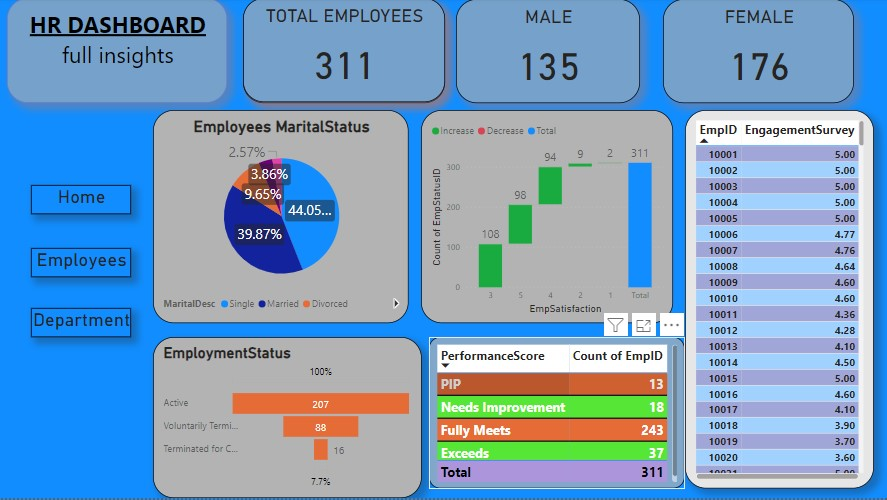

Layout of this report page (visuals, bound fields, positions):
{"tool":"powerbi","page":{"name":"Employees","canvas":[1280,720],"ordinal":1},"visuals":[{"type":"textbox","box":[10.1,0,317.5,151.2],"z":0},{"type":"card","title":"TOTAL EMPLOYEES","fields":{"Values":["CountNonNull(Sheet1.EmpID)"]},"box":[349.4,1.7,290.6,149.5],"z":1000},{"type":"card","title":"MALE","fields":{"Values":["Sum(Sheet1.male)"]},"box":[656.8,1.7,265.4,149.5],"z":2000},{"type":"card","title":"FEMALE","fields":{"Values":["Sum(Sheet1.female)"]},"box":[954.1,1.7,275.5,149.5],"z":3000},{"type":"card","title":"TOTAL EMPLOYEES","fields":{"Values":["CountNonNull(Sheet1.EmpID)"]},"box":[349.4,0,290.6,149.5],"z":4000},{"type":"actionButton","title":"Home","box":[45.4,268.8,144.5,42],"z":5000},{"type":"actionButton","title":"Employees","box":[45.4,359.5,144.5,42],"z":6000},{"type":"actionButton","title":"Departments","box":[45.4,446.8,144.5,42],"z":7000},{"type":"pieChart","title":"Employees MaritalStatus","fields":{"Category":["Sheet1.MaritalDesc"],"Y":["CountNonNull(Sheet1.MaritalStatusID)"]},"box":[220,161.7,368.3,306.7],"z":8000},{"type":"waterfallChart","title":"Employees MaritalStatus","fields":{"Category":["Sheet1.EmpSatisfaction"],"Y":["CountNonNull(Sheet1.EmpStatusID)"]},"box":[606.7,161.7,363.3,306.7],"z":9000},{"type":"funnel","title":"EmploymentStatus","fields":{"Category":["Sheet1.EmploymentStatus"],"Y":["CountNonNull(Sheet1.EmpID)"]},"box":[220,488.3,386.7,231.7],"z":10000},{"type":"tableEx","fields":{"Values":["Sheet1.PerformanceScore","CountNonNull(Sheet1.EmpID)"]},"box":[618.3,488.3,368.3,218.3],"z":11000},{"type":"tableEx","fields":{"Values":["Sheet1.EmpID","Sheet1.EngagementSurvey"]},"box":[986.7,161.7,271.7,545],"z":12000}]}

Visuals, with their boxes in screenshot pixels (x1, y1, x2, y2), scaled from the page's 1280x720 canvas onto the 887x500 screenshot:
textbox: {"x1": 7, "y1": 0, "x2": 227, "y2": 105}
"TOTAL EMPLOYEES" card: {"x1": 242, "y1": 1, "x2": 444, "y2": 105}
"MALE" card: {"x1": 455, "y1": 1, "x2": 639, "y2": 105}
"FEMALE" card: {"x1": 661, "y1": 1, "x2": 852, "y2": 105}
"TOTAL EMPLOYEES" card: {"x1": 242, "y1": 0, "x2": 444, "y2": 104}
"Home" actionButton: {"x1": 31, "y1": 187, "x2": 132, "y2": 216}
"Employees" actionButton: {"x1": 31, "y1": 250, "x2": 132, "y2": 279}
"Departments" actionButton: {"x1": 31, "y1": 310, "x2": 132, "y2": 339}
"Employees MaritalStatus" pieChart: {"x1": 152, "y1": 112, "x2": 408, "y2": 325}
"Employees MaritalStatus" waterfallChart: {"x1": 420, "y1": 112, "x2": 672, "y2": 325}
"EmploymentStatus" funnel: {"x1": 152, "y1": 339, "x2": 420, "y2": 499}
tableEx - Sheet1.PerformanceScore x CountNonNull(Sheet1.EmpID): {"x1": 428, "y1": 339, "x2": 684, "y2": 491}
tableEx - Sheet1.EmpID x Sheet1.EngagementSurvey: {"x1": 684, "y1": 112, "x2": 872, "y2": 491}
